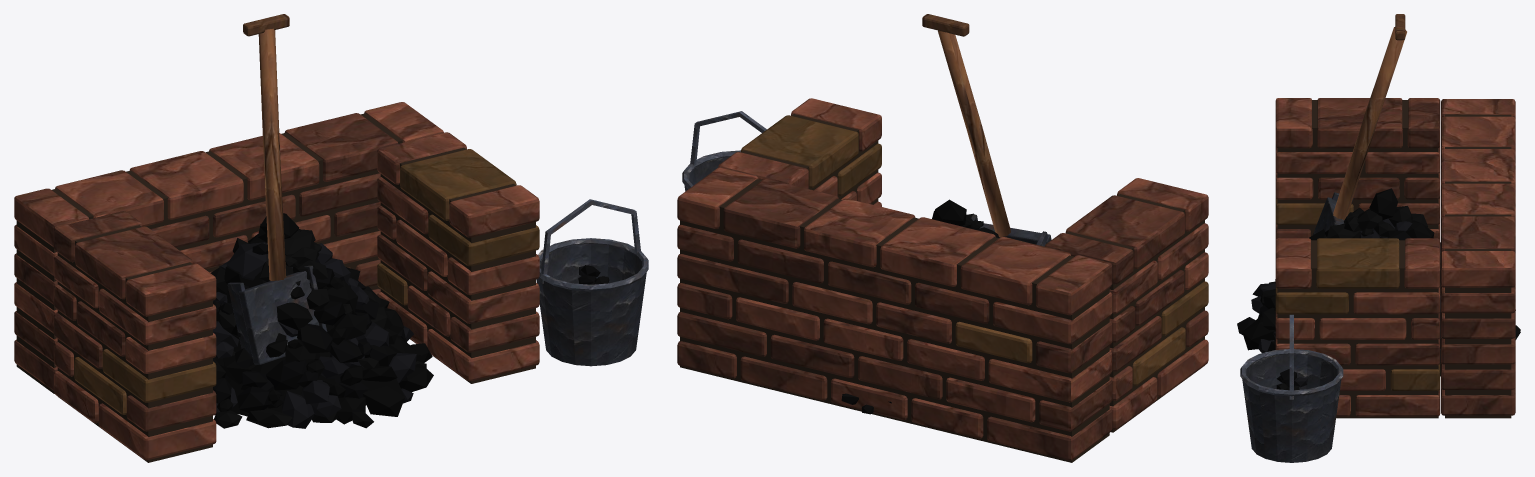
The model's file is cf_charcoal_bay.glb.
3 views of the same model, side by side, from view 1: azimuth 30°, elevation 25°; view 2: azimuth 150°, elevation 25°; view 3: azimuth 270°, elevation 25° (orthographic). The views are drawn at different scales.
Visible parts, largest first — view 1: model; view 2: model; view 3: model.
Boxes of the visible parts, x1,y1,x2,y2 form: model: (14, 14, 648, 462); model: (677, 14, 1208, 462); model: (1237, 14, 1520, 462).
Bounding box in the file's own units: 1.53 × 1 × 0.8379.
16 materials, 10 textured.
